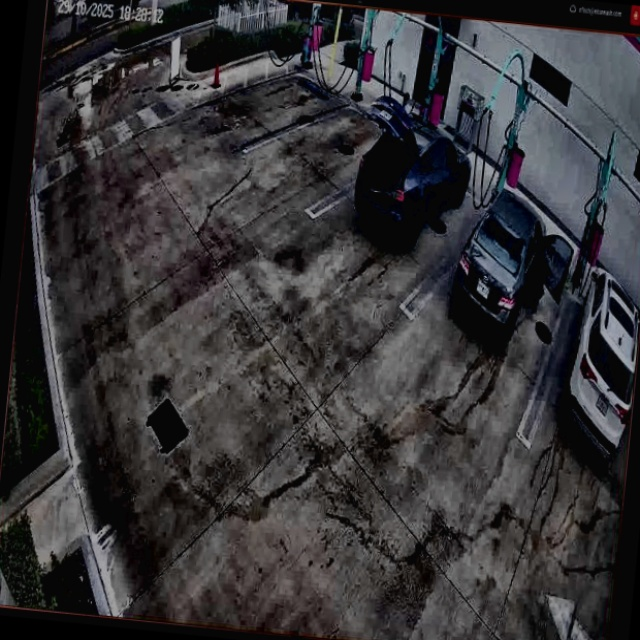Car: (449, 190, 574, 353), (356, 95, 477, 244)
